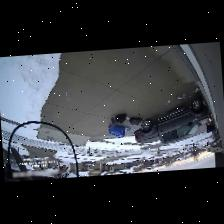person: (110, 113, 128, 125)
